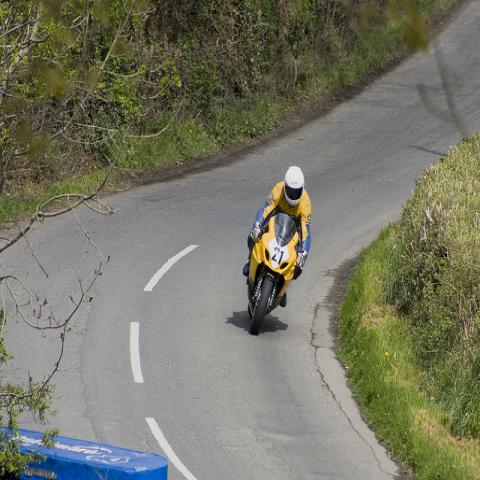motorcycle: (246, 215, 304, 336)
